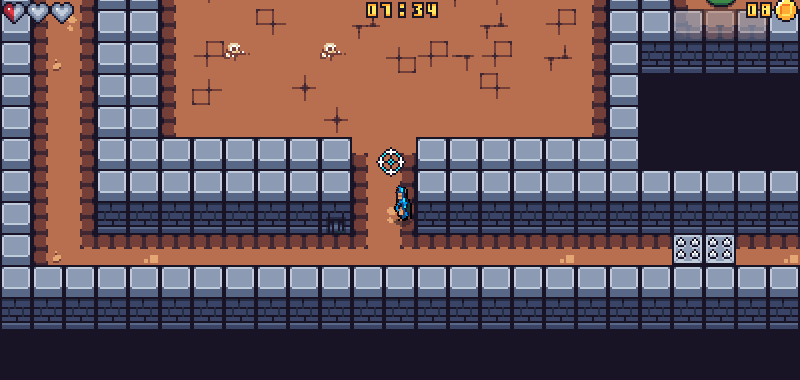trap_off: (672, 234, 735, 266)
